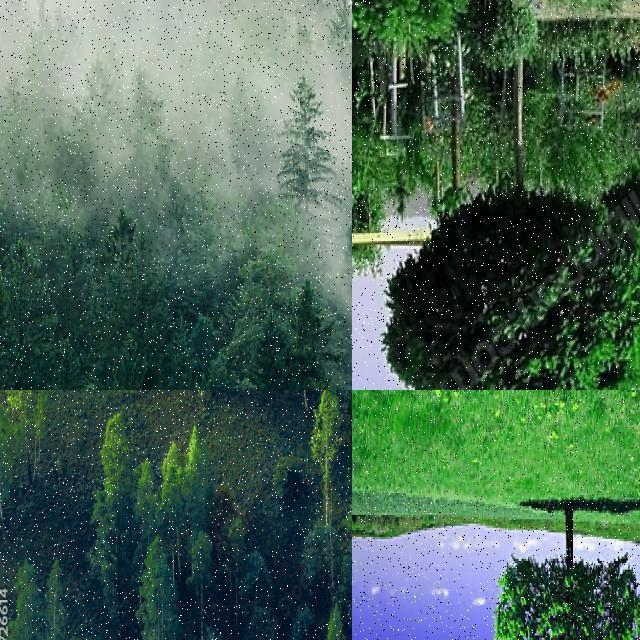tree: (384, 58, 640, 390), (496, 506, 640, 640), (596, 57, 640, 373), (88, 411, 135, 640), (103, 212, 161, 390), (280, 72, 342, 216), (0, 238, 56, 354), (308, 390, 344, 548), (243, 314, 311, 390), (136, 528, 180, 640), (289, 280, 335, 376), (0, 402, 28, 538), (5, 556, 50, 640), (20, 390, 72, 454), (56, 336, 116, 390), (244, 548, 278, 640), (203, 390, 240, 474), (0, 390, 42, 462), (154, 390, 193, 462), (186, 426, 212, 526), (164, 438, 188, 538), (44, 560, 70, 640), (286, 390, 320, 450), (1, 390, 38, 442), (138, 456, 162, 532), (89, 390, 129, 430), (324, 0, 352, 50), (234, 390, 258, 440), (187, 390, 210, 438), (323, 603, 348, 640)
